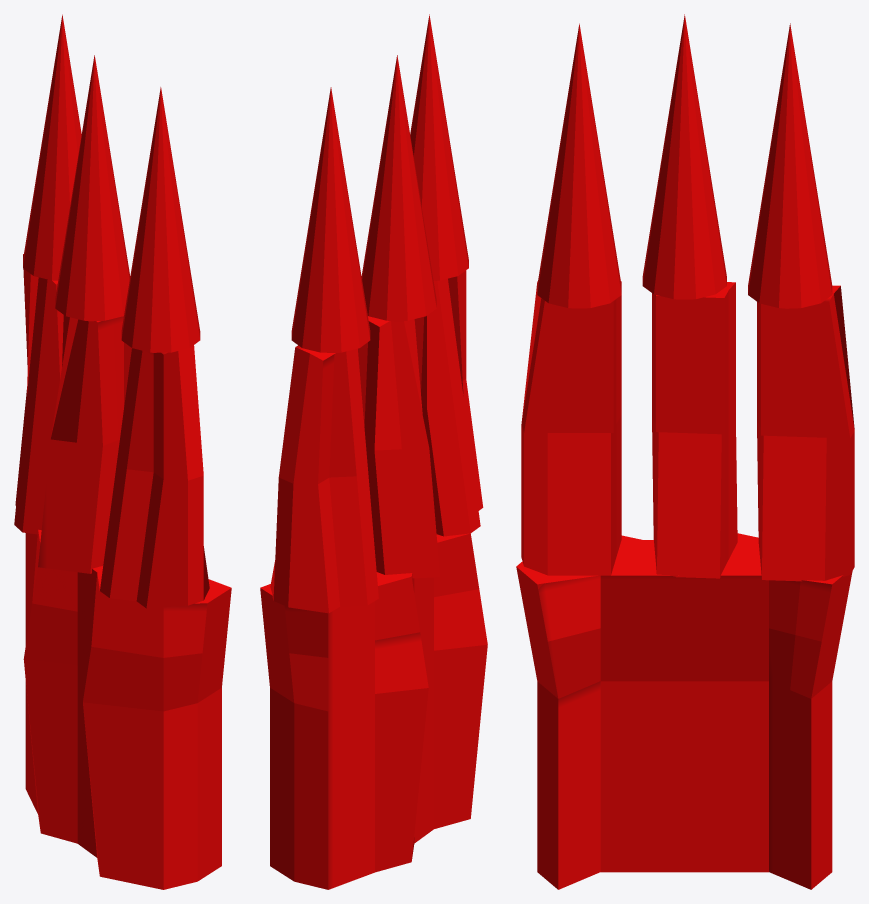
File: Hand 1.fbx
The picture shows the model from 3 angles, left to right: view 1: azimuth 30°, elevation 25°; view 2: azimuth 150°, elevation 25°; view 3: azimuth 270°, elevation 25°; orthographic projection. The views are drawn at different scales.
Visible parts, largest first — view 1: cuboid, cuboid_1, cuboid_3, cone_2, cone, cuboid_2, cone_1; view 2: cuboid, cuboid_2, cuboid_3, cuboid_1, cone_1, cone, cone_2; view 3: cuboid, cuboid_1, cuboid_2, cuboid_3, cone_2, cone, cone_1.
Part boxes in pixels (<box>): cuboid: <box>23,529,231,889</box>; cuboid_1: <box>100,342,209,608</box>; cuboid_3: <box>38,315,123,573</box>; cone_2: <box>121,87,200,352</box>; cone: <box>55,55,130,321</box>; cuboid_2: <box>14,254,63,534</box>; cone_1: <box>23,14,81,280</box>; cuboid: <box>260,533,487,889</box>; cuboid_2: <box>270,342,378,613</box>; cuboid_3: <box>364,316,440,578</box>; cuboid_1: <box>421,270,483,536</box>; cone_1: <box>291,87,370,352</box>; cone: <box>361,55,436,321</box>; cone_2: <box>410,14,468,280</box>; cuboid: <box>516,533,852,889</box>; cuboid_1: <box>521,281,621,575</box>; cuboid_2: <box>757,285,854,581</box>; cuboid_3: <box>652,282,737,578</box>; cone_2: <box>537,23,621,308</box>; cone: <box>642,14,726,299</box>; cone_1: <box>748,23,832,308</box>.
Bounding box in the file's own units: 43.75 × 275 × 100.
Materials: 1 (1 with a texture image).
